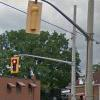Traffic light: (6, 54, 21, 78)
